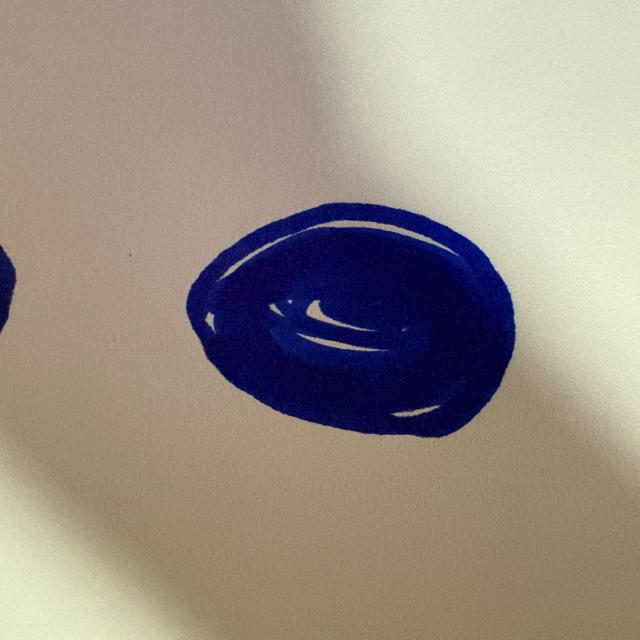Circle: (179, 195, 521, 441)
